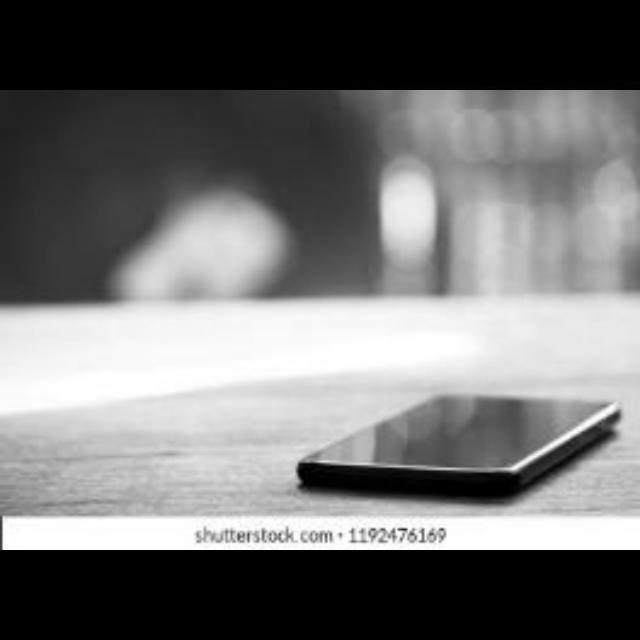fake: (282, 348, 636, 507)
